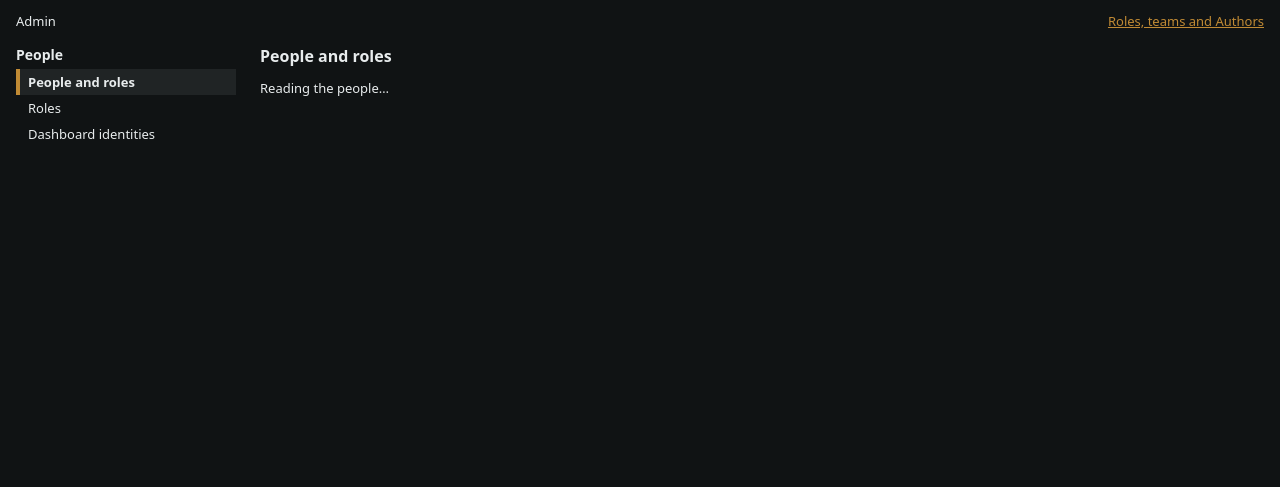
Scenario: the Admin place's sections (ADR-145 decision 5) › opens a section from the side list, marks it current, and moves focus to its heading
Click the button "Roles": (128, 108) [20,95,236,121]
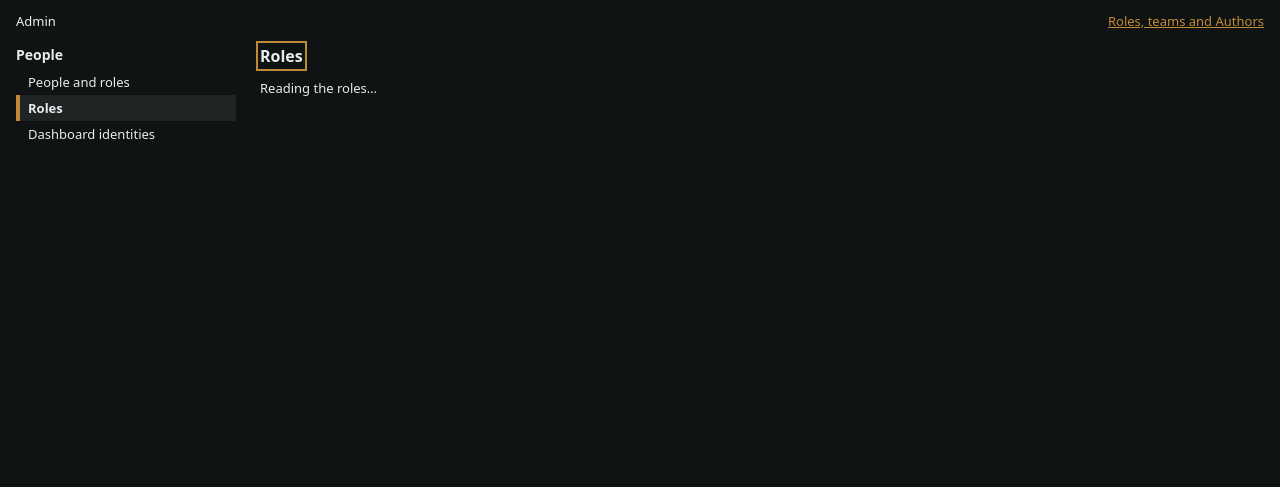
Result: the button "Roles" is marked as current at [20,95,236,121]
Result: the button "People and roles" does not have attribute aria-current at [20,69,236,95]
L2.5: Roles is built, and reads the roles when it opens.
Click the button "Dashboard identities": (128, 134) [20,121,236,147]
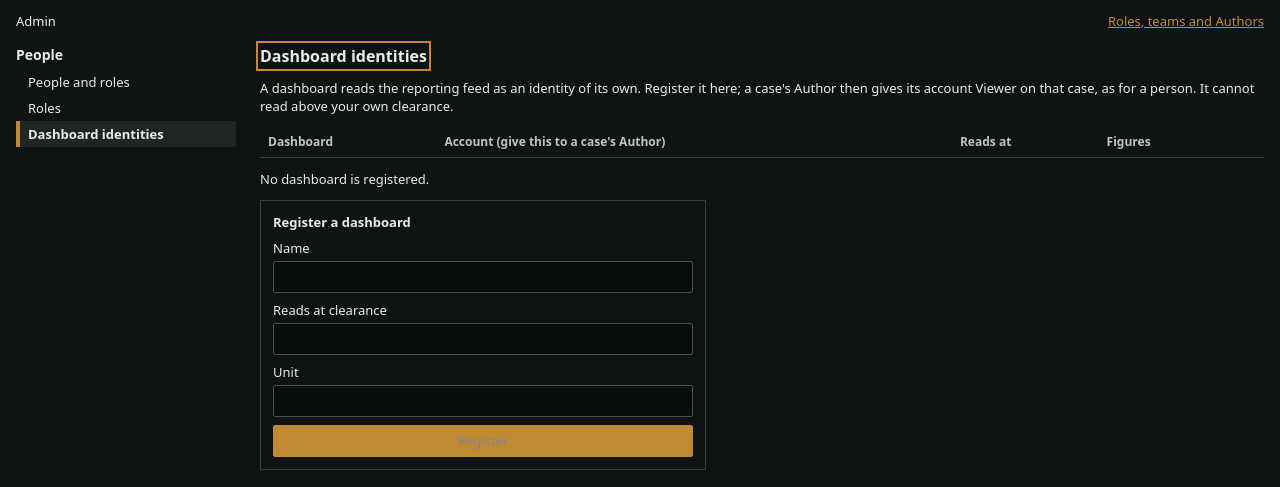
Result: the table named "Dashboard identities" is shown at [260,127,1264,158]
